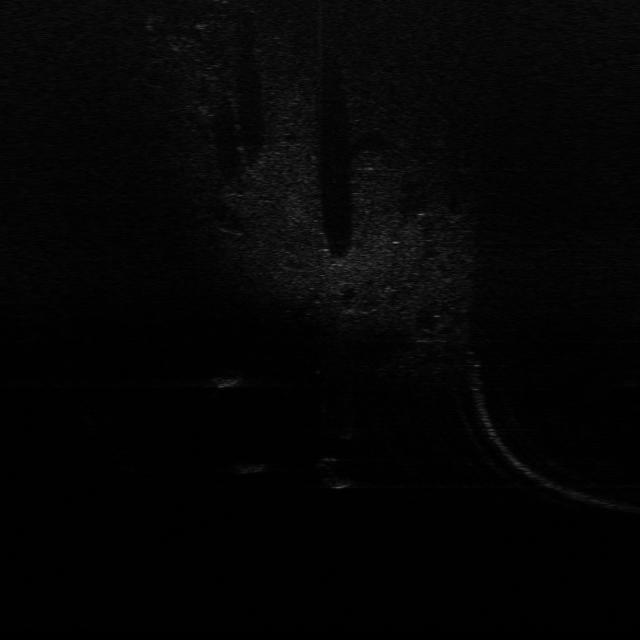cube: (234, 459, 266, 475)
square cage: (206, 371, 248, 390)
tyre: (313, 456, 357, 490)
